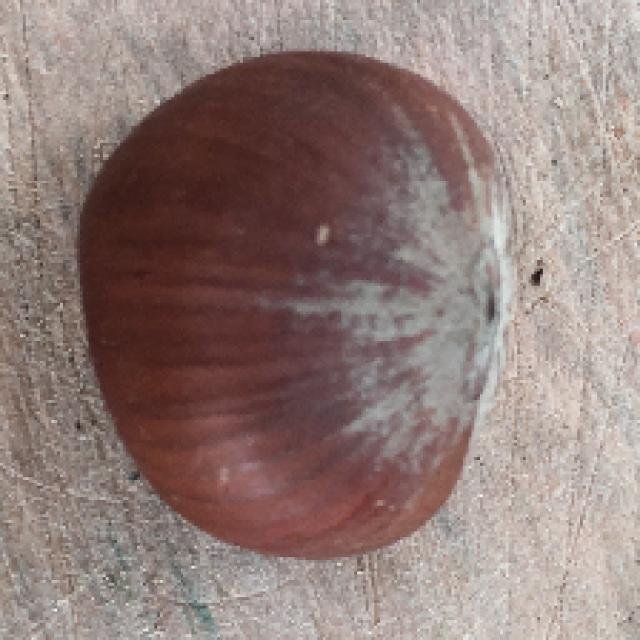qualityHazelnut: (72, 51, 530, 561)
